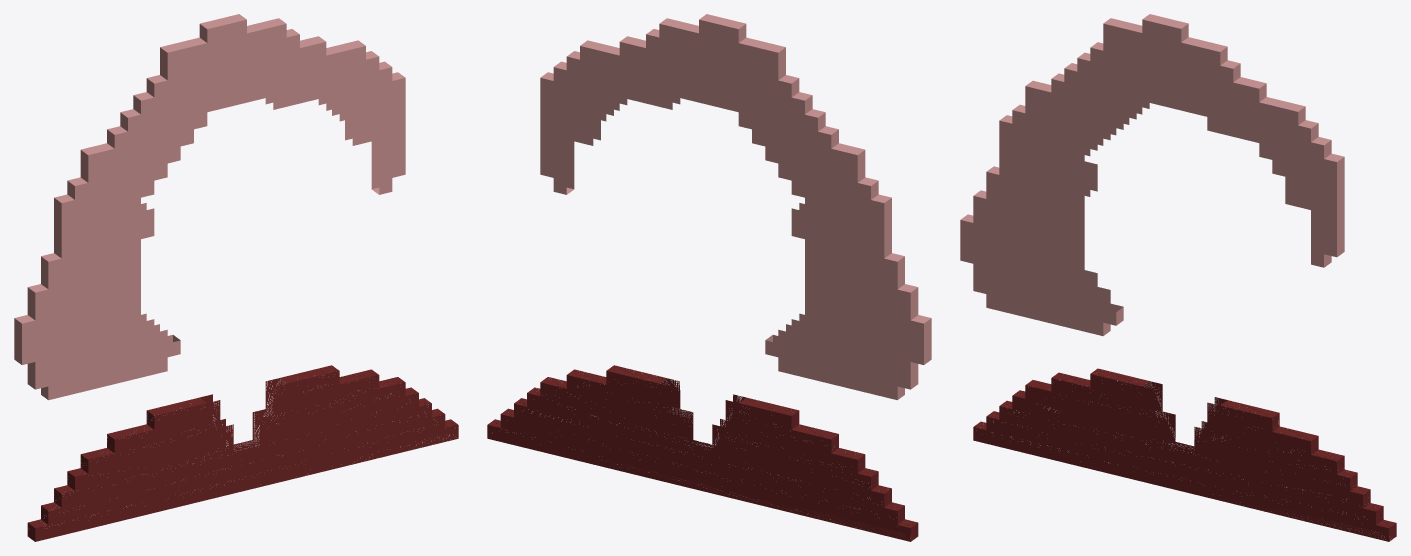
Rendered from Female3.obj.
The picture shows the model from 3 angles, left to right: view 1: azimuth 30°, elevation 25°; view 2: azimuth 150°, elevation 25°; view 3: azimuth 330°, elevation 25°; orthographic projection.
Size of the model in its own units: 3.3 by 3.4 by 0.1.
